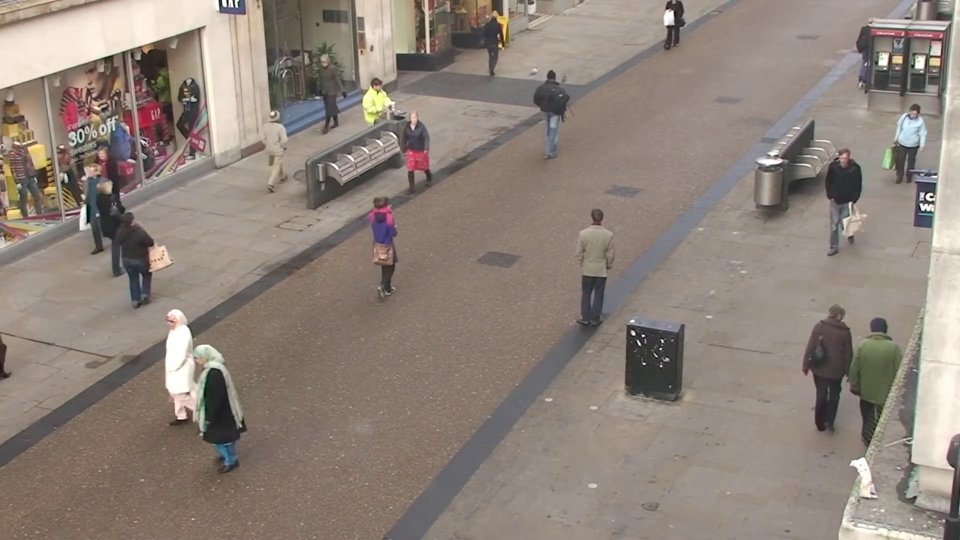pedestrian: (168, 338, 229, 490), (846, 303, 904, 450), (141, 302, 199, 444), (812, 291, 866, 434), (118, 202, 167, 318), (68, 162, 117, 268), (93, 176, 141, 284), (79, 145, 125, 246), (578, 204, 616, 324), (370, 182, 410, 296), (818, 148, 860, 253), (884, 105, 928, 201), (263, 102, 298, 192), (394, 104, 427, 197), (365, 75, 395, 158), (851, 15, 884, 88), (307, 57, 336, 135), (541, 65, 568, 147), (486, 6, 509, 72)
